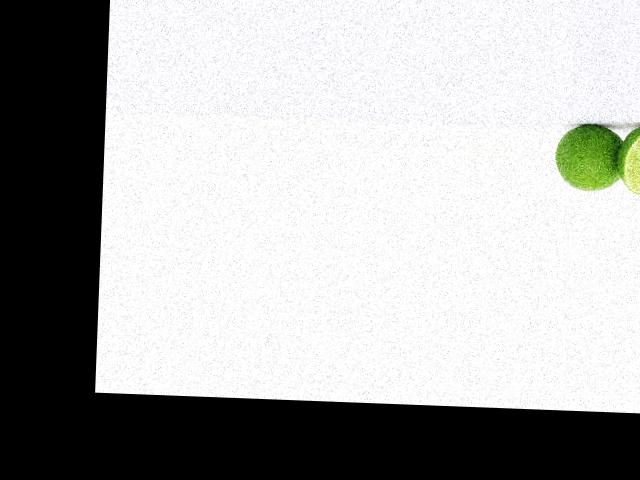lemon: (551, 118, 625, 193)
